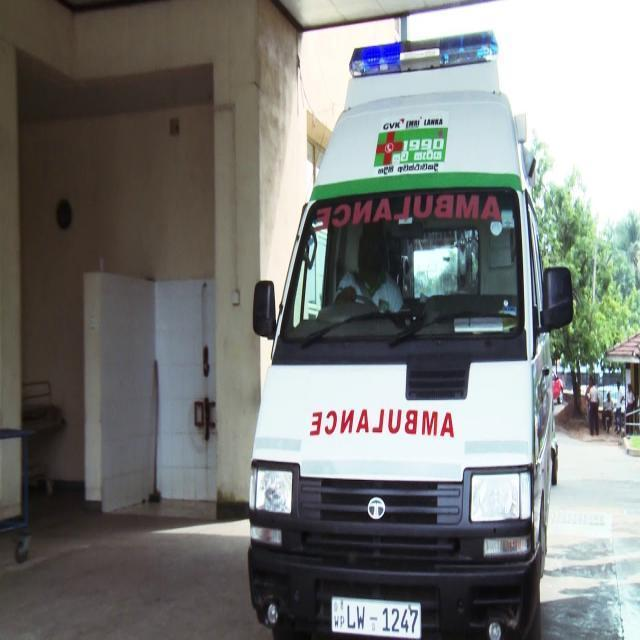emergency-vehicle: (230, 16, 576, 640)
